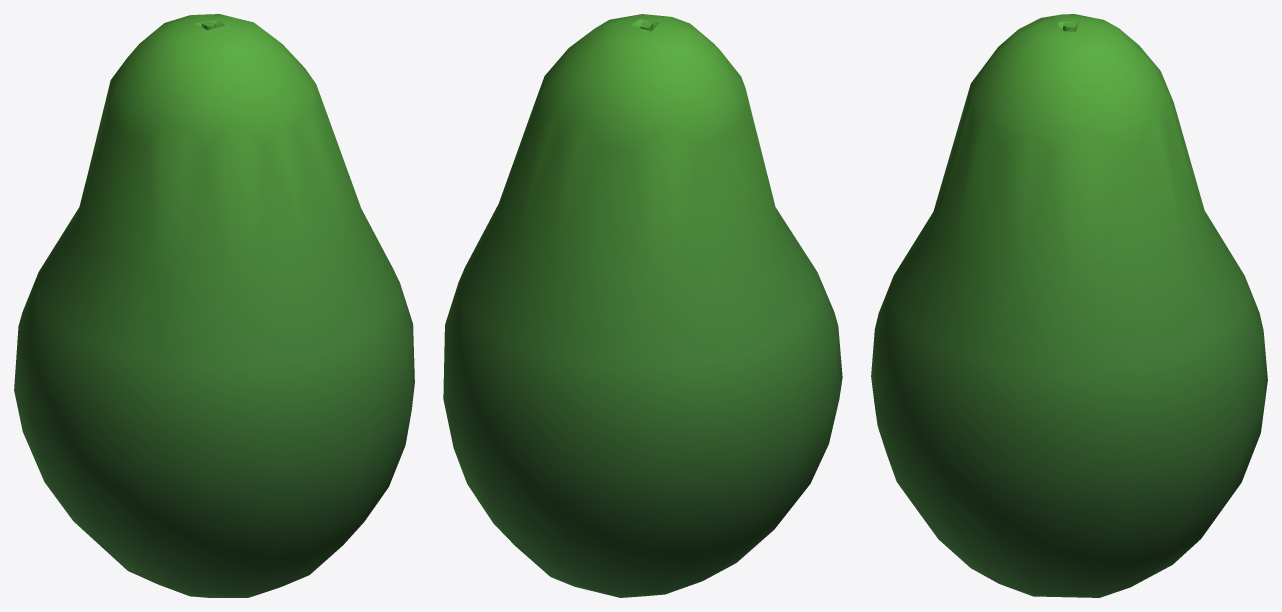
Rendered from avocado_full.fbx.
The picture shows the model from 3 angles, left to right: view 1: azimuth 30°, elevation 25°; view 2: azimuth 150°, elevation 25°; view 3: azimuth 270°, elevation 25°; orthographic projection.
Visible parts, largest first — view 1: avocado_full; view 2: avocado_full; view 3: avocado_full.
Part boxes in pixels (x1,y1,x2,y2): avocado_full: (14,14,414,597); avocado_full: (443,14,842,597); avocado_full: (871,14,1267,597).
Bounding box in the file's own units: 73.69 × 115 × 74.29.
